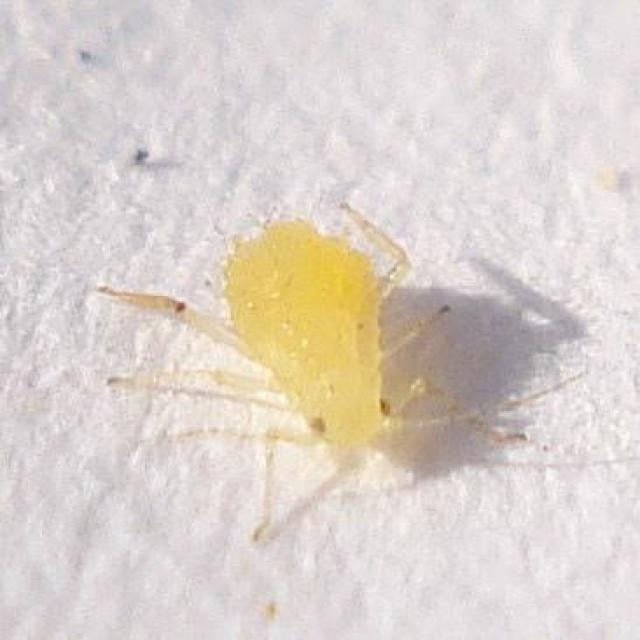Aphids: (105, 170, 526, 563)
